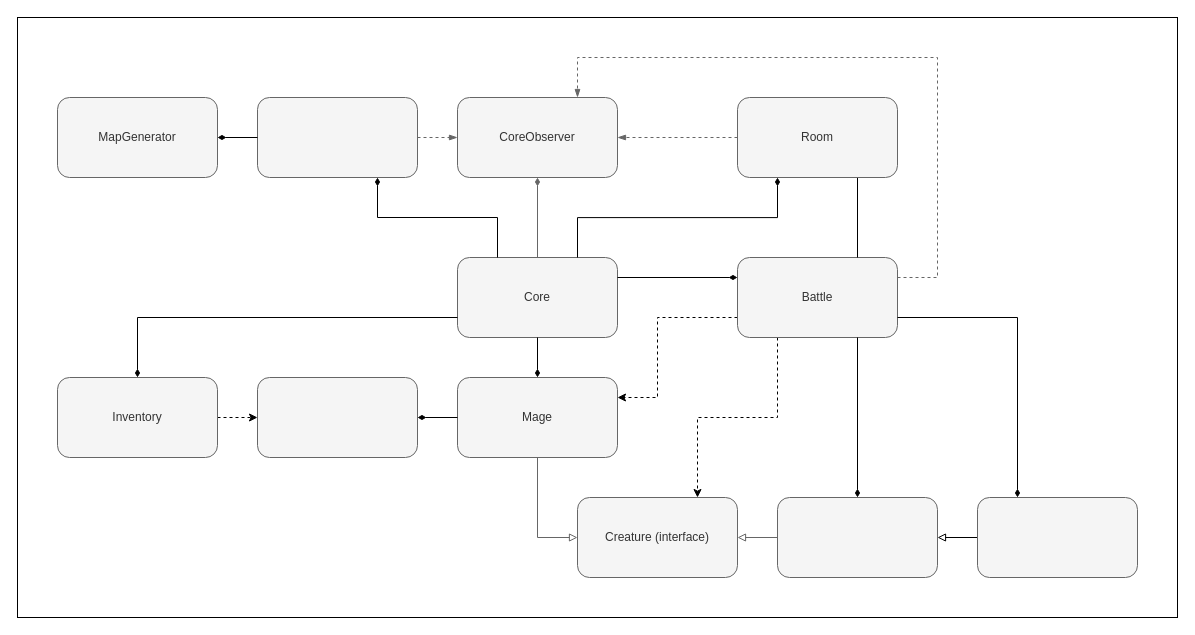
Image size: 1195x635. Some labels were removed from this diagram. Each missing label, with the centre of its shape:
"Boss" belongs at point 1057,537.
"Enemy" belongs at point 857,537.
"Map" belongs at point 337,137.
"Ring" belongs at point 337,417.
